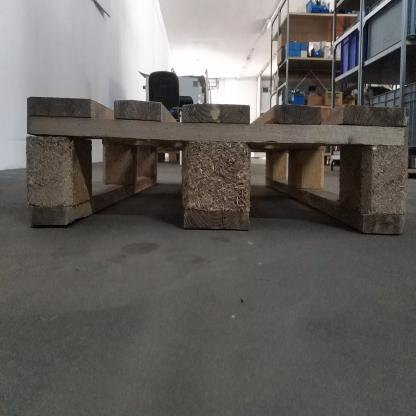BoxFace: (22, 88, 412, 244)
